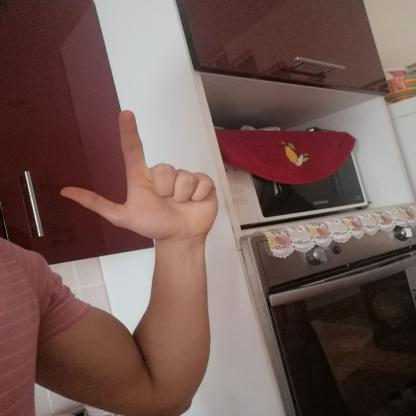LAAM: (47, 102, 226, 250)
